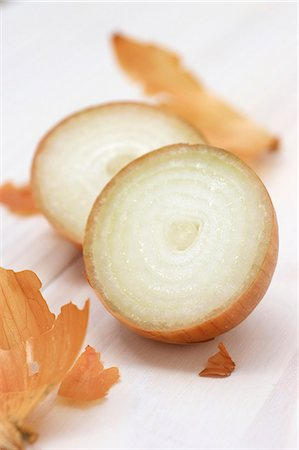onion: (88, 134, 277, 350)
